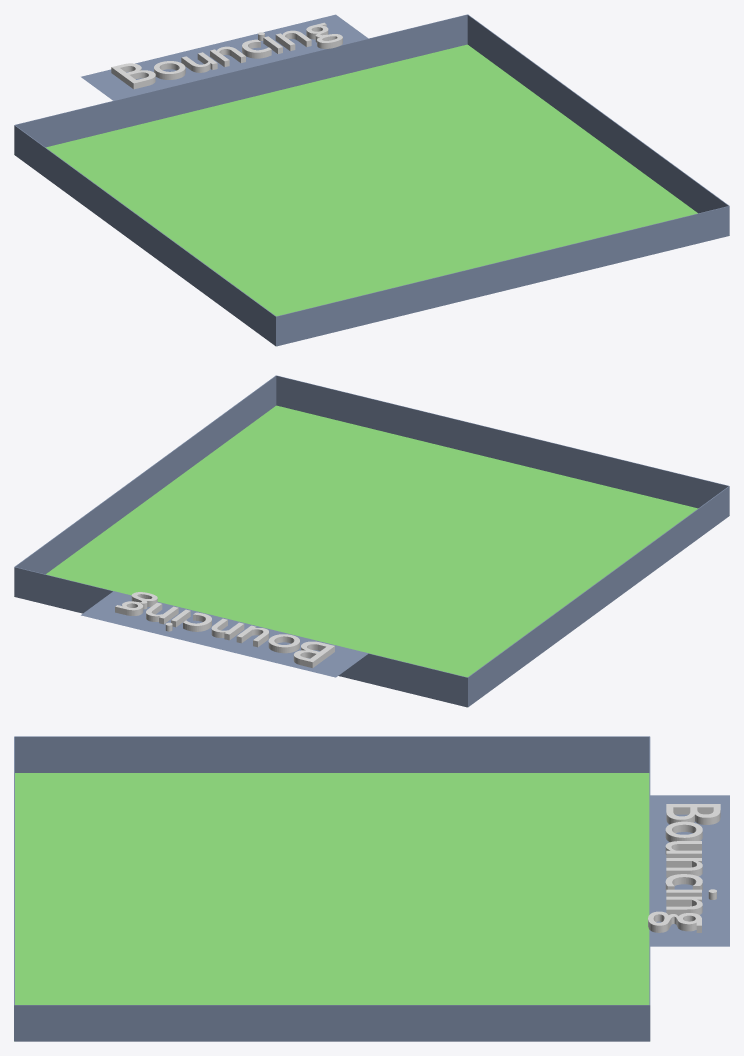
Rendered from bouncing.dae.
3 renders of one model, top to bottom at view 1: azimuth 30°, elevation 25°; view 2: azimuth 150°, elevation 25°; view 3: azimuth 270°, elevation 25°, orthographic. The views are drawn at different scales.
Parts seen in each view (by area): view 1: Plane, Cube.001, Plane.001, Text.002; view 2: Plane, Cube.001, Plane.001, Text.002; view 3: Plane, Cube.001, Plane.001, Text.002.
Boxes of the visible parts, x1,y1,x2,y2 form: Plane: [46, 44, 697, 316]; Cube.001: [14, 14, 729, 346]; Plane.001: [81, 14, 368, 100]; Text.002: [111, 22, 342, 89]; Plane: [46, 405, 697, 677]; Cube.001: [14, 375, 729, 707]; Plane.001: [81, 591, 367, 677]; Text.002: [115, 592, 334, 668]; Plane: [14, 773, 649, 1041]; Cube.001: [14, 736, 650, 1041]; Plane.001: [650, 795, 729, 946]; Text.002: [648, 804, 720, 932].
Bounding box in the file's own units: 8 × 9 × 0.6.
